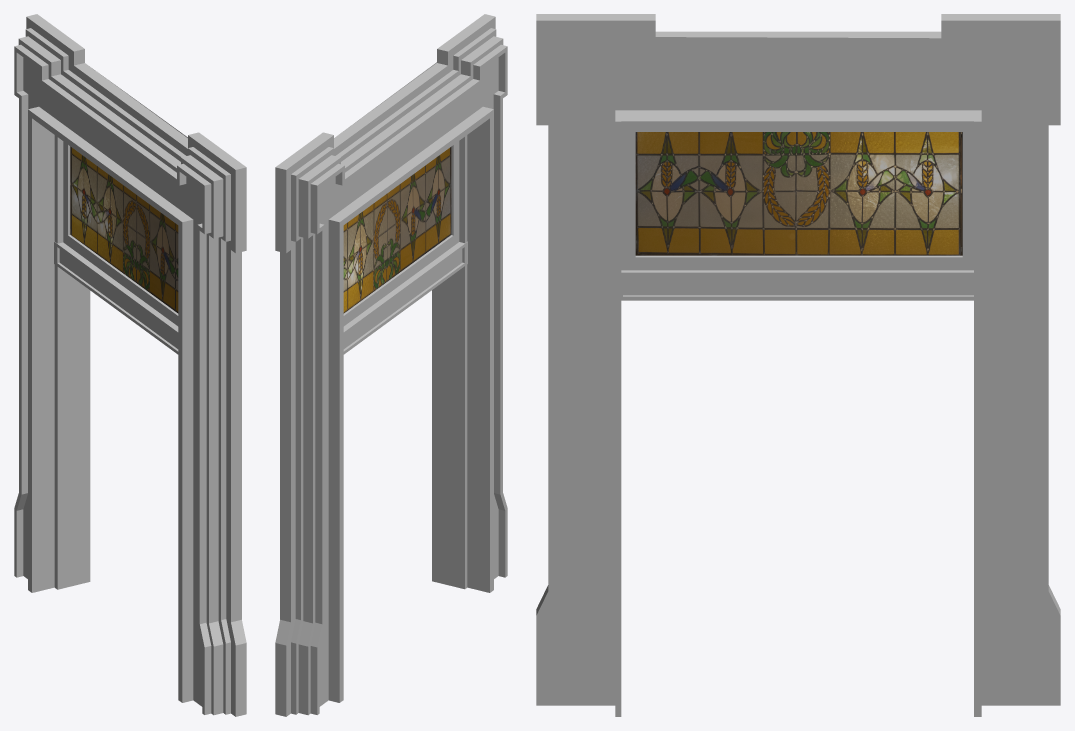
The model's file is SM_WD27_FRAME.fbx.
The picture shows the model from 3 angles, left to right: view 1: azimuth 30°, elevation 25°; view 2: azimuth 150°, elevation 25°; view 3: azimuth 270°, elevation 25°; orthographic projection. The views are drawn at different scales.
Visible parts, largest first — view 1: SM_WD27_FRAME; view 2: SM_WD27_FRAME; view 3: SM_WD27_FRAME.
Part boxes in pixels (box(x1,y1,x2,y2)): SM_WD27_FRAME: box(14, 14, 246, 716); SM_WD27_FRAME: box(275, 14, 507, 716); SM_WD27_FRAME: box(536, 14, 1060, 716).
Bounding box in the file's own units: 40.89 × 268 × 386.
3 materials, 1 textured.
